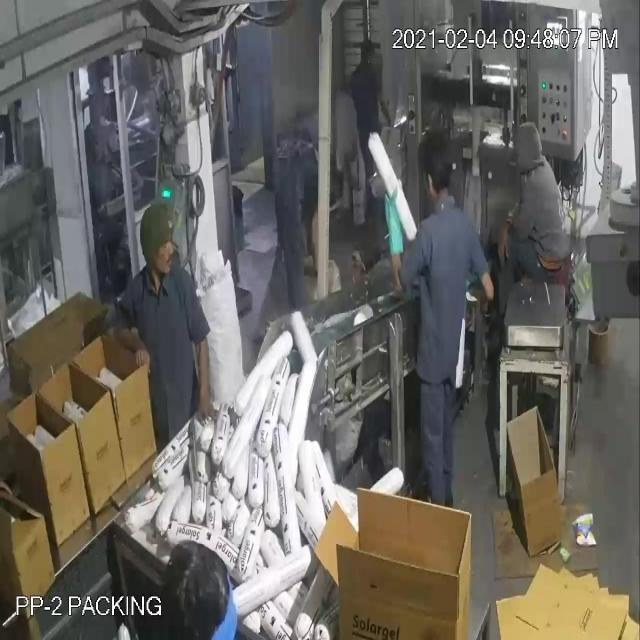No_Gloves: (20, 58, 506, 380)
